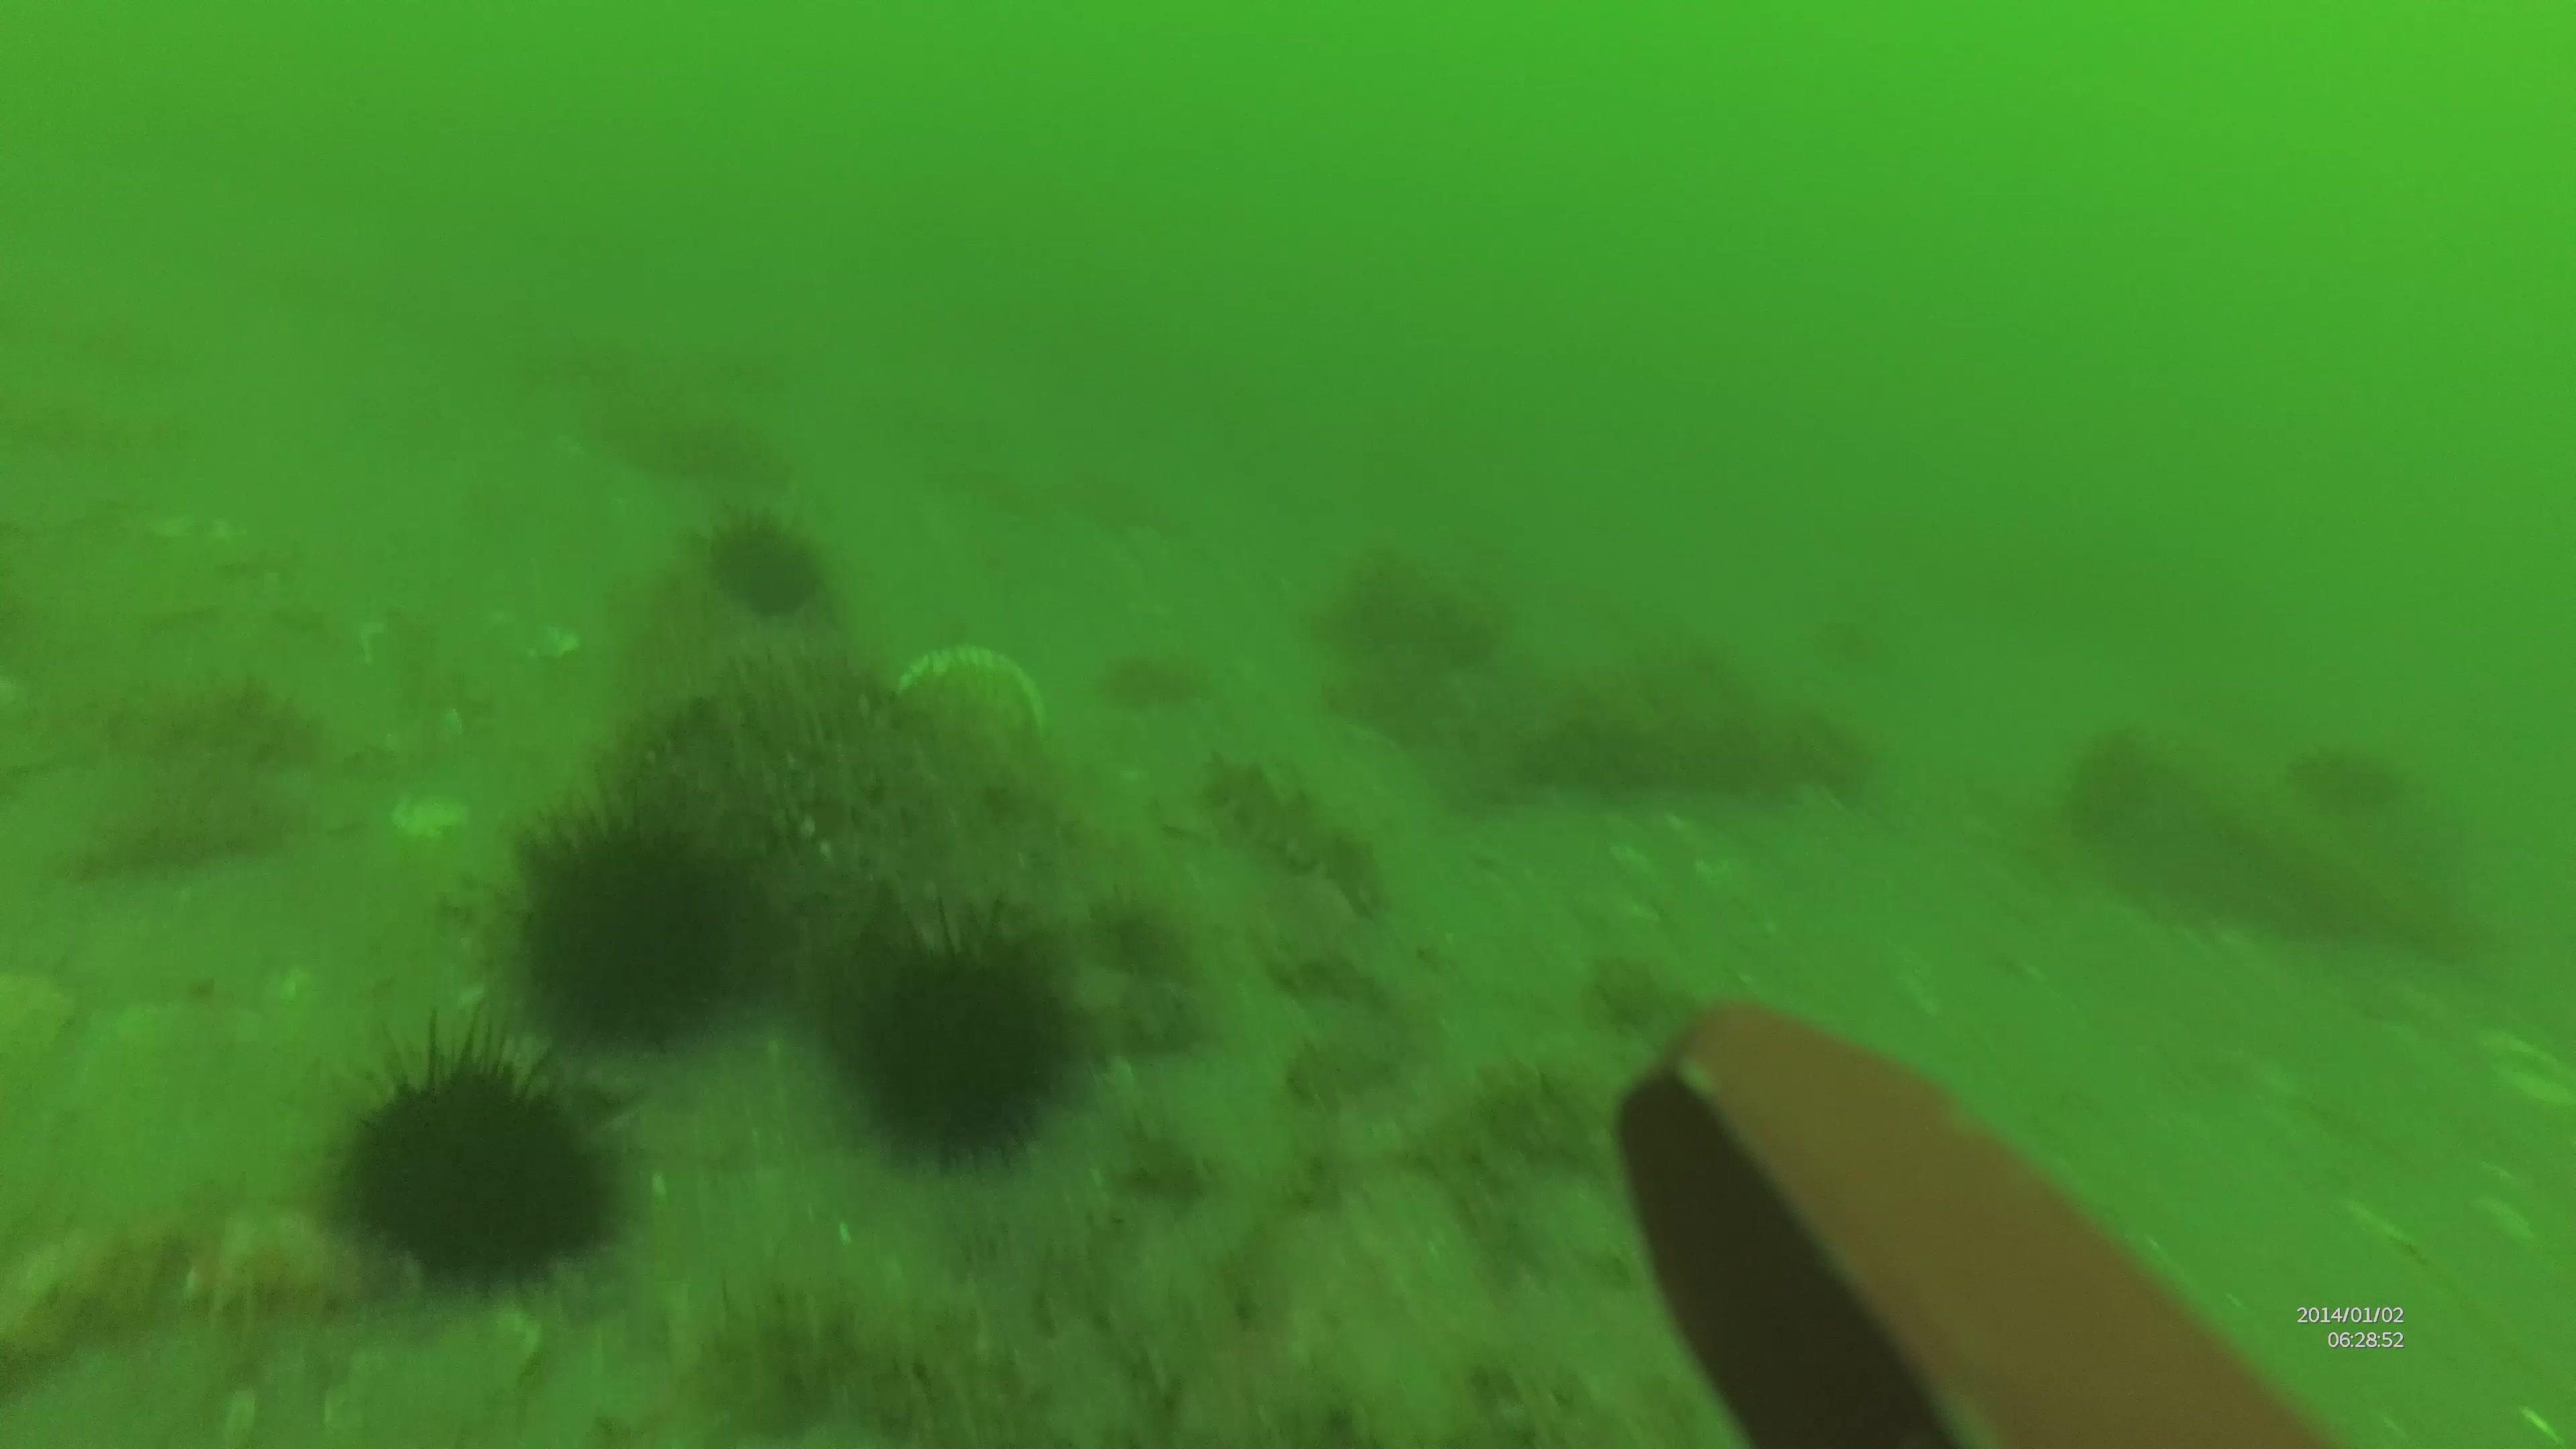echinus: (324, 1016, 632, 1307), (494, 789, 786, 1060), (830, 890, 1092, 1178), (695, 497, 844, 625)
holothurian: (1205, 750, 1384, 916), (189, 1200, 409, 1313), (127, 683, 347, 791), (73, 798, 318, 893)
scallop: (892, 642, 1054, 766)
